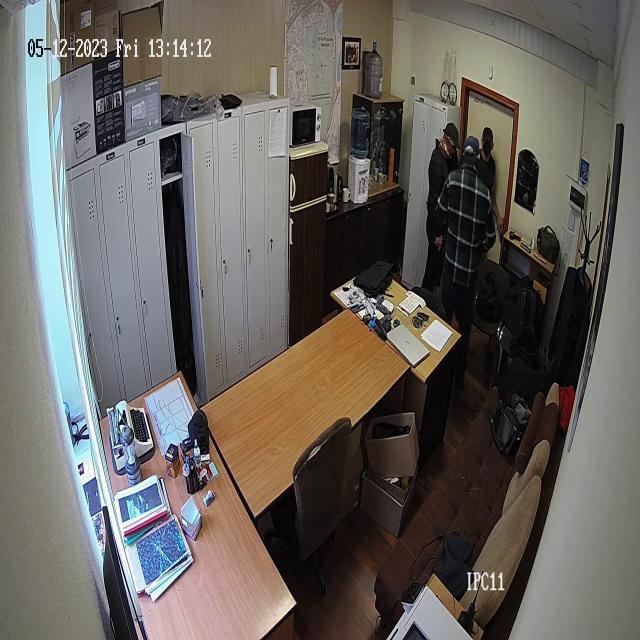pistol: (432, 229, 449, 297), (510, 226, 522, 246)
